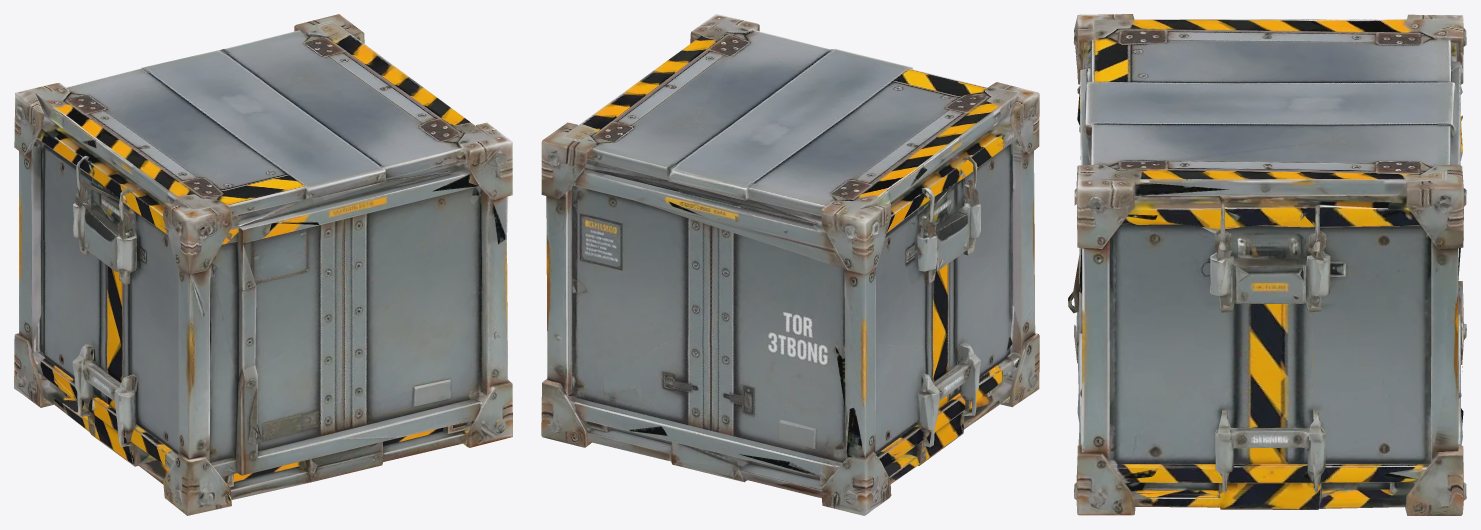
Rendered from crate.glb.
3 views of the same model, side by side, from view 1: azimuth 30°, elevation 25°; view 2: azimuth 150°, elevation 25°; view 3: azimuth 270°, elevation 25° (orthographic). The views are drawn at different scales.
Size of the model in its own units: 1.9 by 1.62 by 1.76.
1 material, 1 textured.
